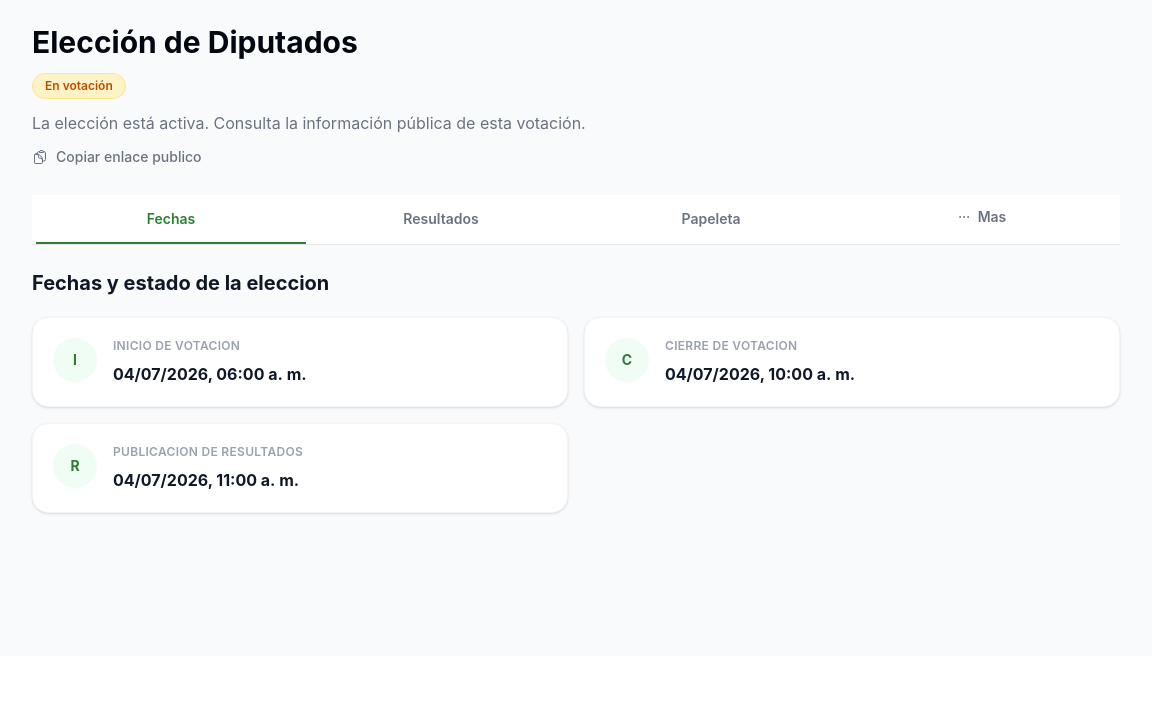
Test: participation analytics flow › muestra fecha de publicación cuando backend reporta resultados publicados
The width and height of the screenshot is (1152, 713).
Step 1. Click the tab "Mas" → (981, 220), box 846,195 -> 1116,244
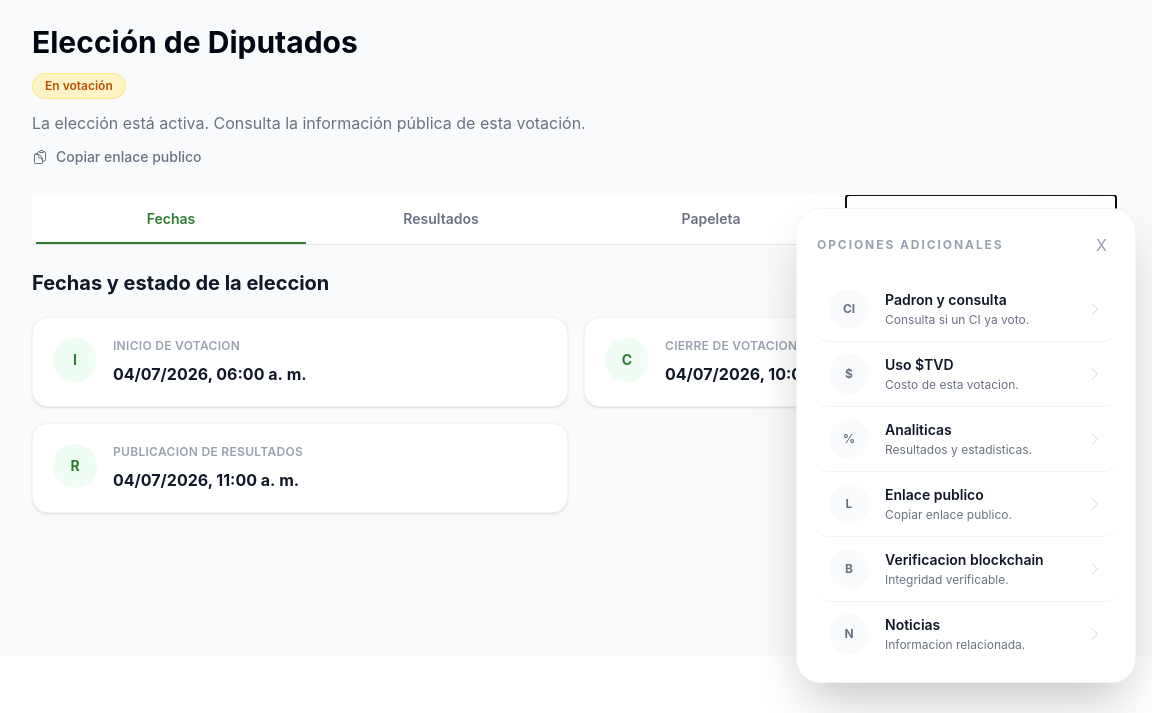
Step 2. Click the button "% Analiticas Resultados y estadisticas." → (966, 440), box 813,407 -> 1119,472
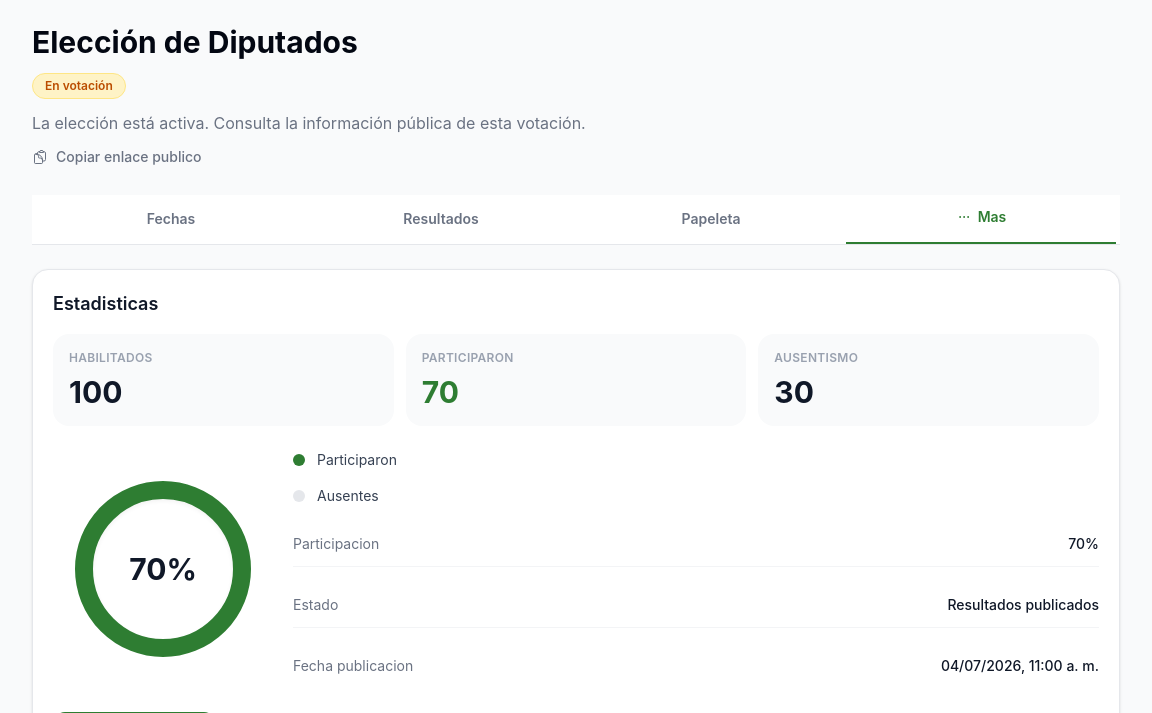
Now the text "Resultados publicados" is shown, box 947,595 -> 1099,615
Now the text "Fecha publicacion" is shown, box 293,656 -> 413,676
